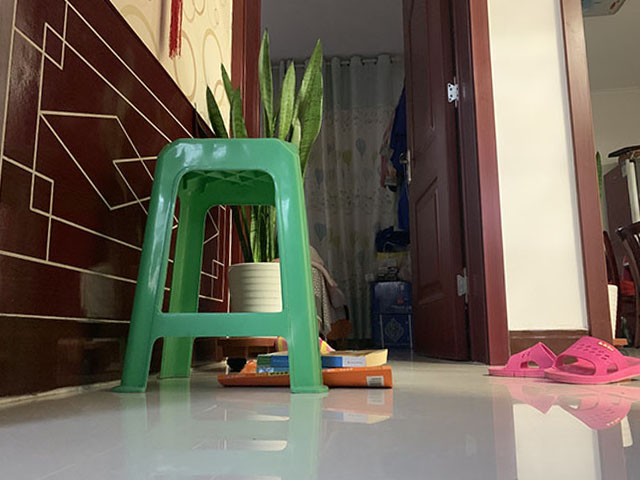book: (218, 347, 394, 386)
curtain: (332, 54, 384, 341)
slippers: (539, 335, 640, 387), (486, 342, 554, 376)
stool: (118, 134, 326, 395)
